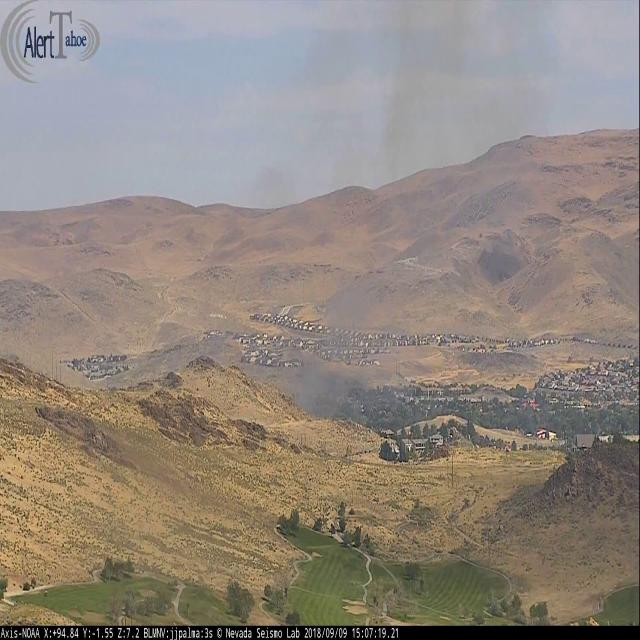smoke: (104, 0, 528, 421)
